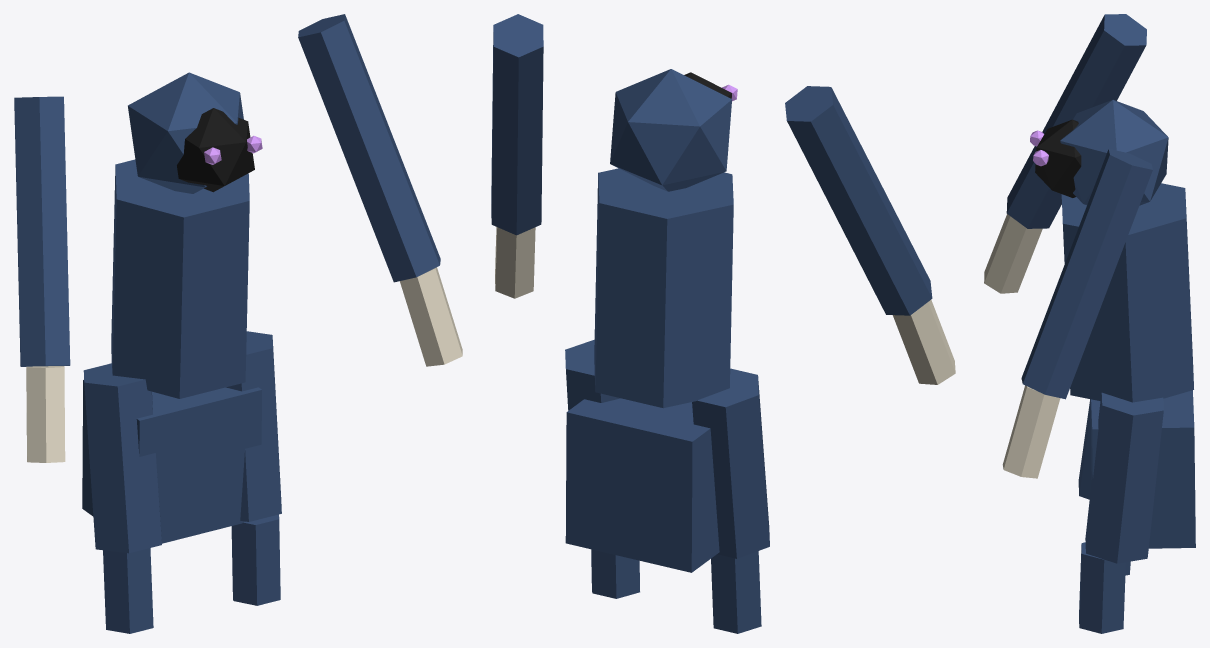
File: npcpose_wraith_idle_01.glb
3 views of the same model, side by side, from view 1: azimuth 30°, elevation 25°; view 2: azimuth 150°, elevation 25°; view 3: azimuth 270°, elevation 25° (orthographic). The views are drawn at different scales.
Parts seen in each view (by area): view 1: npcpose; view 2: npcpose; view 3: npcpose.
Part boxes in pixels (box(x1,y1,x2,y2)): npcpose: box(14, 14, 462, 633); npcpose: box(491, 14, 955, 633); npcpose: box(984, 14, 1195, 633).
Bounding box in the file's own units: 0.9383 × 1.11 × 0.4146.
